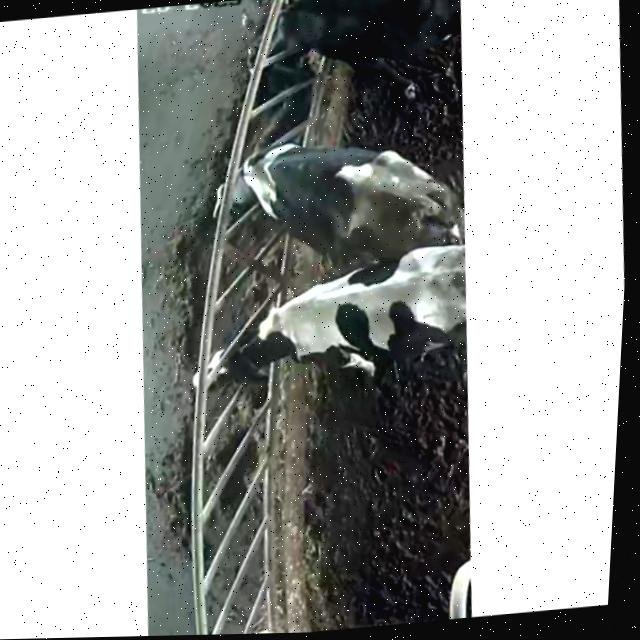eat: (150, 273, 351, 412), (193, 0, 404, 123), (183, 127, 377, 246)
